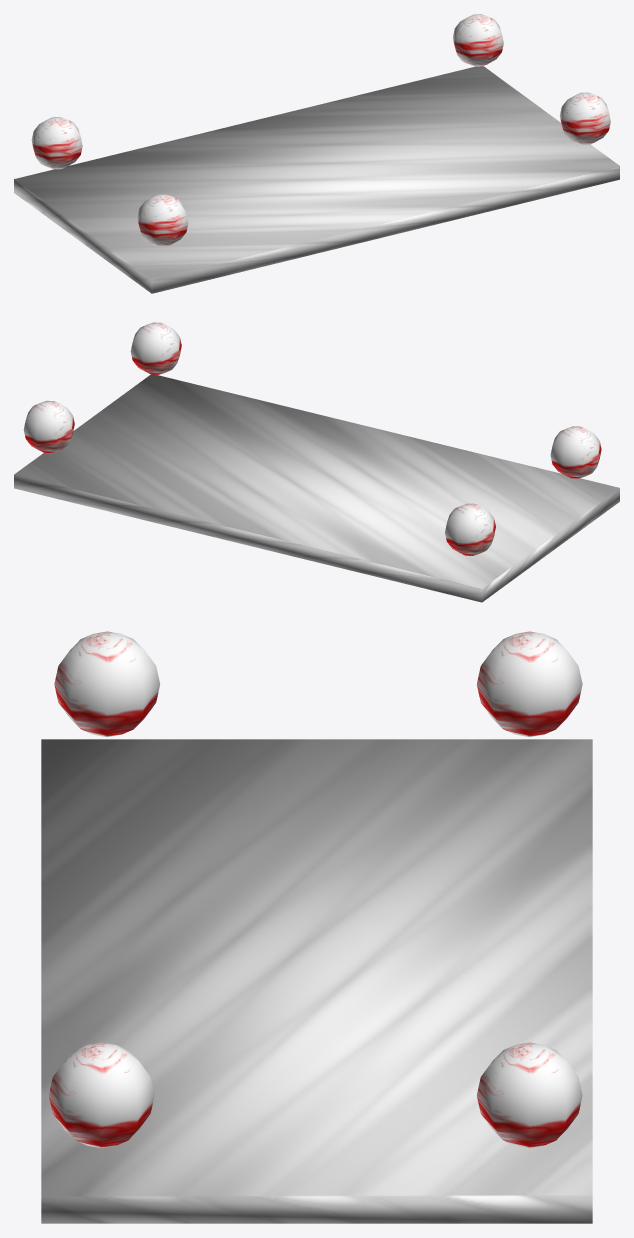
Rendered from floor1copy.fbx.
The picture shows the model from 3 angles, top to bottom: view 1: azimuth 30°, elevation 25°; view 2: azimuth 150°, elevation 25°; view 3: azimuth 270°, elevation 25°; orthographic projection. The views are drawn at different scales.
Parts seen in each view (by area): view 1: Cube_001, Cube_004, Cube_003, Cube_006, Cube_005; view 2: Cube_001, Cube_006, Cube_005, Cube_003, Cube_004; view 3: Cube_001, Cube_004, Cube_005, Cube_003, Cube_006.
Part boxes in pixels (x1,y1,x2,y2): Cube_001: (14, 66, 619, 293); Cube_004: (453, 14, 503, 66); Cube_003: (31, 117, 82, 169); Cube_006: (137, 194, 188, 246); Cube_005: (560, 92, 610, 144); Cube_001: (14, 374, 619, 602); Cube_006: (550, 426, 601, 478); Cube_005: (130, 322, 181, 374); Cube_003: (445, 503, 495, 555); Cube_004: (23, 400, 74, 453); Cube_001: (41, 739, 592, 1223); Cube_004: (476, 1042, 582, 1148); Cube_005: (48, 1042, 154, 1148); Cube_003: (476, 631, 582, 737); Cube_006: (54, 631, 160, 737).
Bounding box in the file's own units: 2.01 × 0.321 × 1.02.
